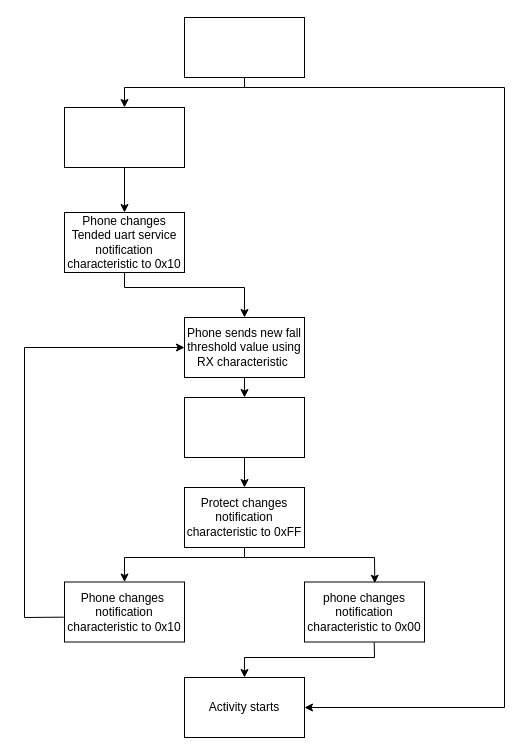
Image size: 530x755. Some labels were removed from this diagram. Each missing label, with the box of its shape:
New fall thresholds are available: (64, 106, 184, 168)
protect reads and stores fall threshold: (184, 396, 304, 458)
User starts an activity: (184, 16, 304, 78)
